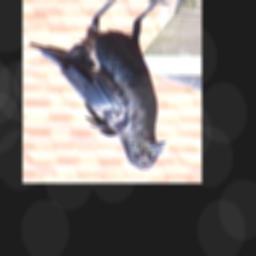Crow: (29, 0, 170, 170)
